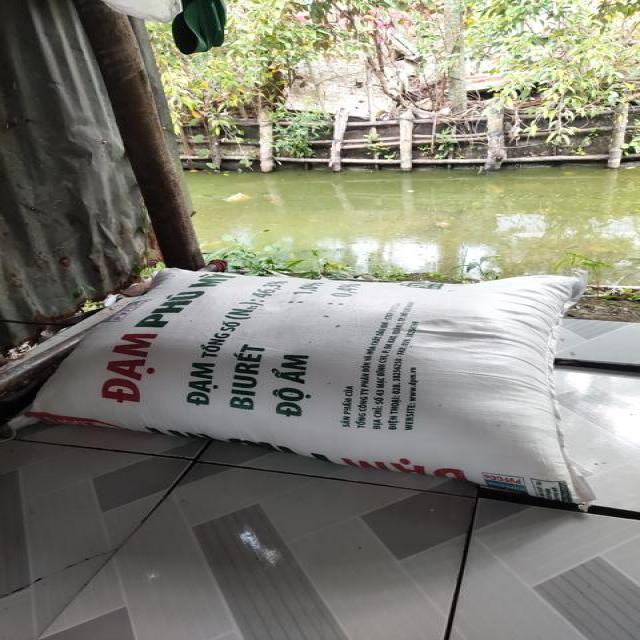gunny_bag: (31, 269, 585, 502)
